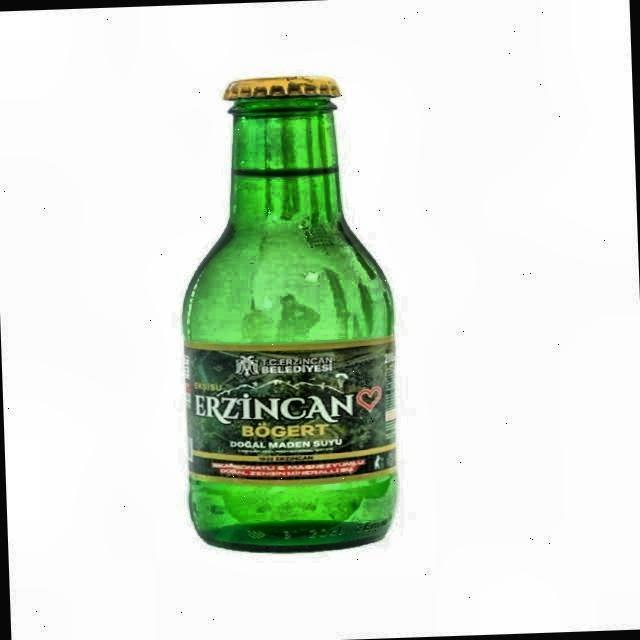glass: (180, 77, 400, 555)
